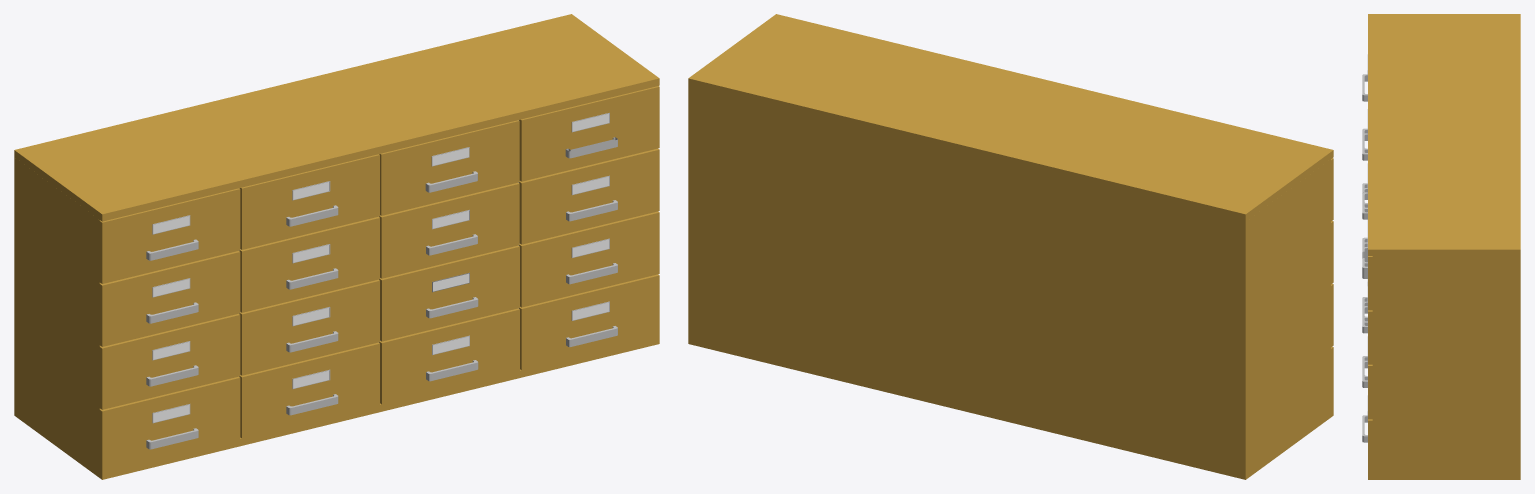
Rendered from FileCabinetDetached2.FBX.
3 renders of one model, left to right at view 1: azimuth 30°, elevation 25°; view 2: azimuth 150°, elevation 25°; view 3: azimuth 270°, elevation 25°, orthographic. The views are drawn at different scales.
Parts seen in each view (by area): view 1: FileCabinets, Drawer9, Drawer13, Drawer4, Drawer8, Drawer1, Drawer12, Drawer6, Drawer10, Drawer14, Drawer15, Drawer16 (+5 smaller); view 2: FileCabinets; view 3: FileCabinets, Drawer12, Drawer8, Drawer16, Drawer5.
Boxes of the visible parts, bbox=[...] form: FileCabinets: bbox=[14, 14, 659, 479]; Drawer9: bbox=[99, 313, 240, 409]; Drawer13: bbox=[99, 376, 240, 472]; Drawer4: bbox=[99, 251, 240, 346]; Drawer8: bbox=[518, 148, 659, 244]; Drawer1: bbox=[99, 188, 240, 283]; Drawer12: bbox=[518, 211, 659, 307]; Drawer6: bbox=[239, 216, 379, 312]; Drawer10: bbox=[239, 279, 379, 375]; Drawer14: bbox=[239, 342, 379, 438]; Drawer15: bbox=[379, 308, 519, 404]; Drawer16: bbox=[518, 274, 659, 370]; FileCabinets: bbox=[688, 14, 1333, 479]; FileCabinets: bbox=[1368, 14, 1520, 479]; Drawer12: bbox=[1362, 341, 1372, 419]; Drawer8: bbox=[1362, 286, 1372, 364]; Drawer16: bbox=[1362, 395, 1372, 473]; Drawer5: bbox=[1362, 232, 1372, 310].
Bounding box in the file's own units: 161 × 45.53 × 73.16.
